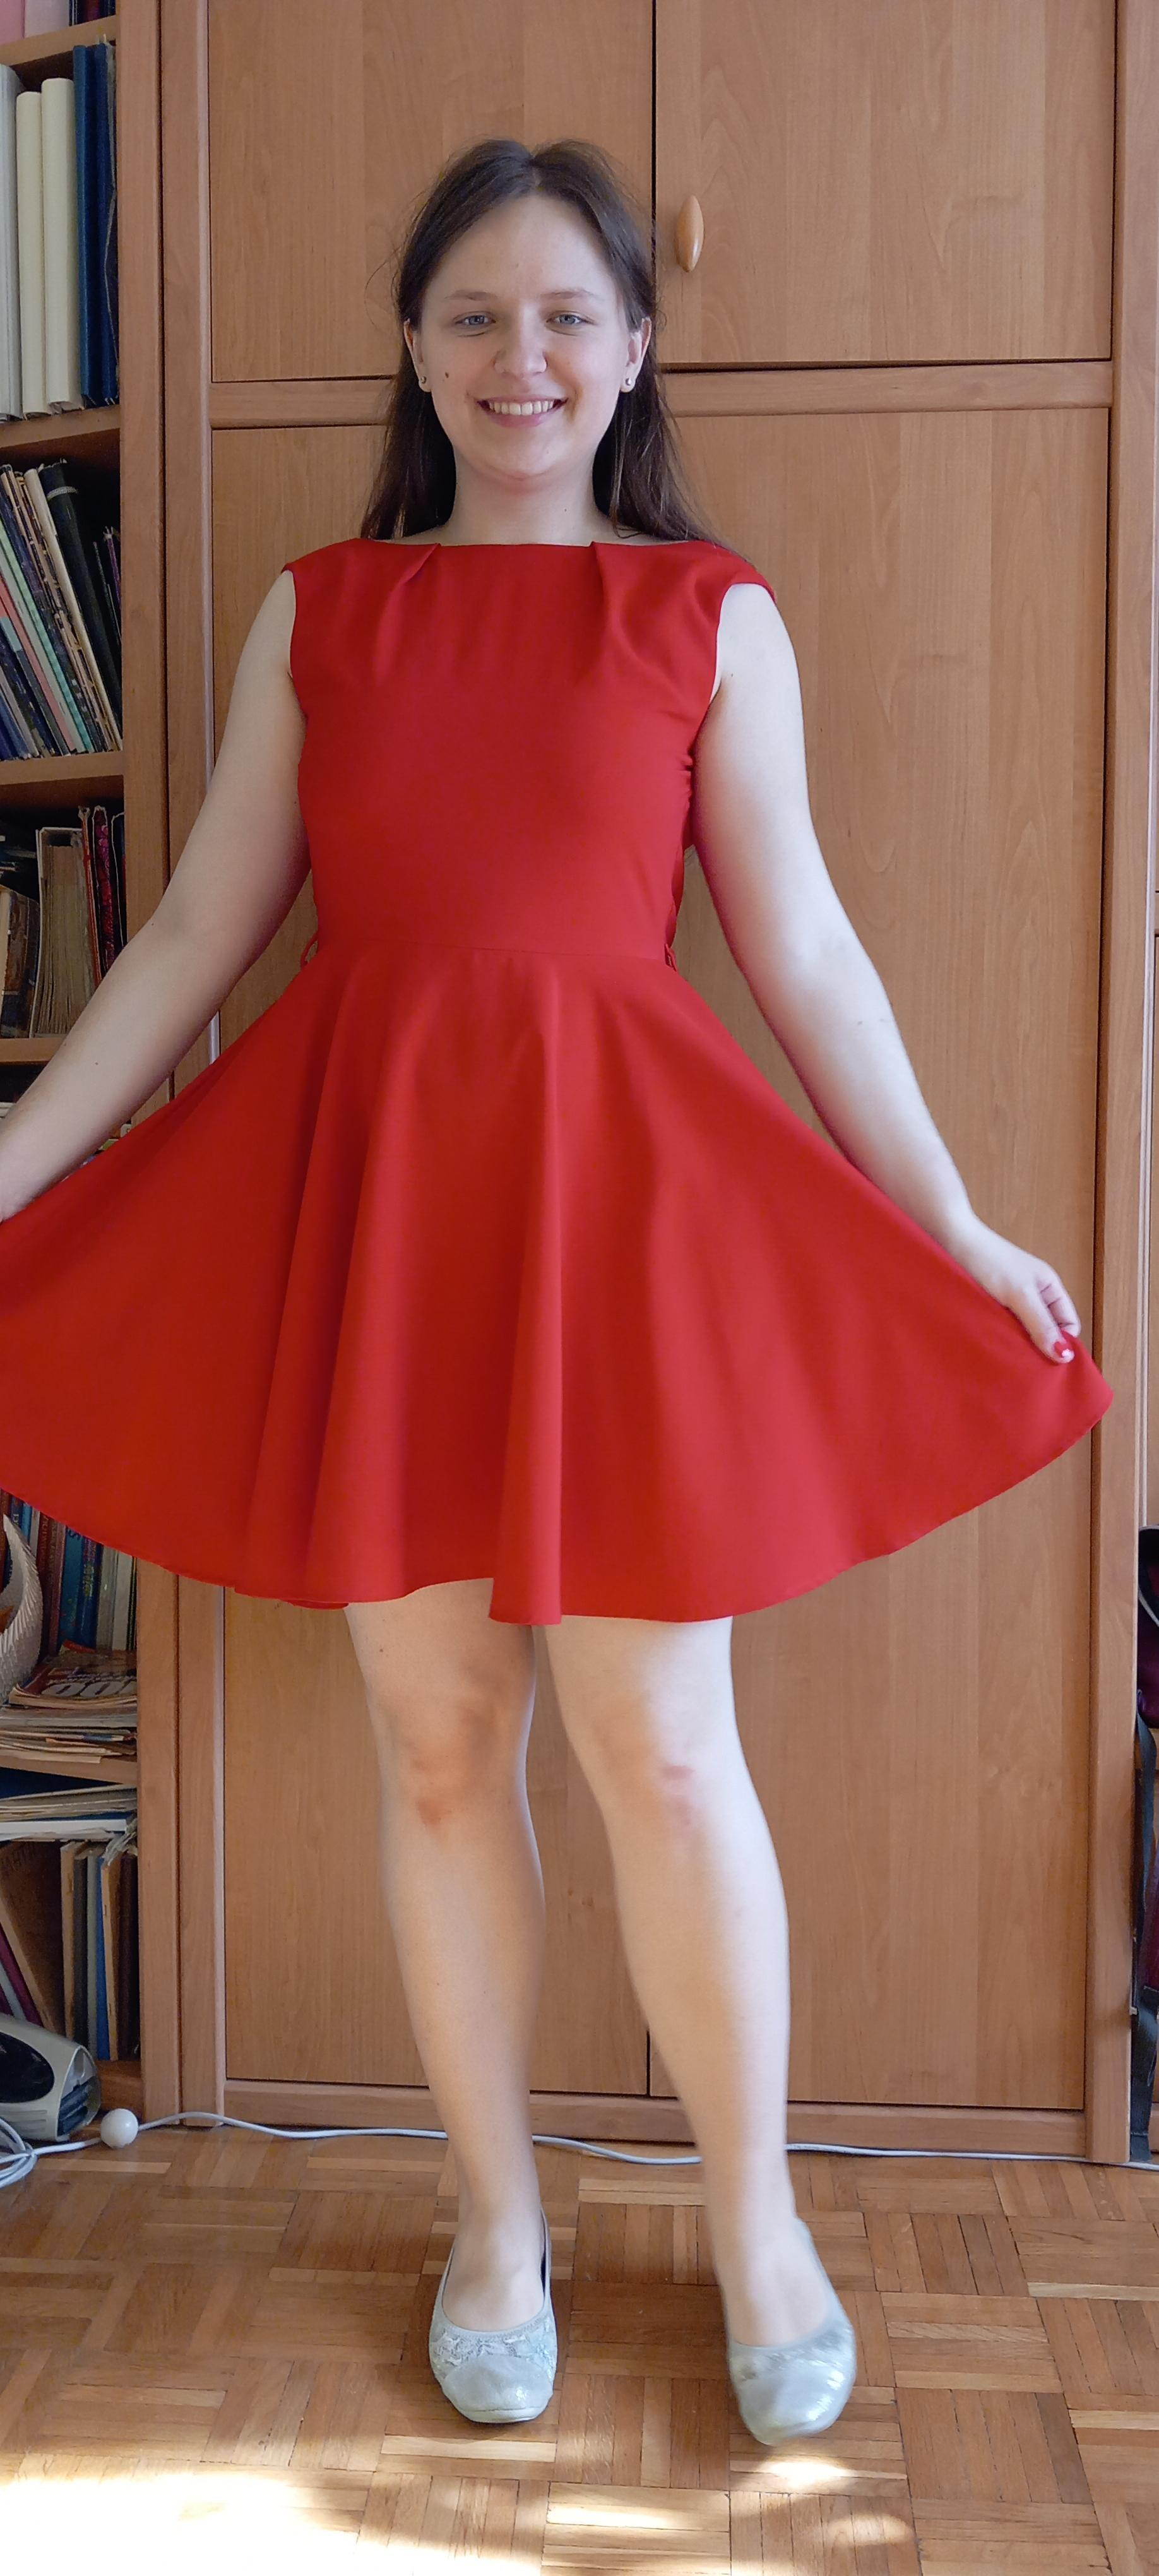dress: (0, 534, 1118, 1628)
